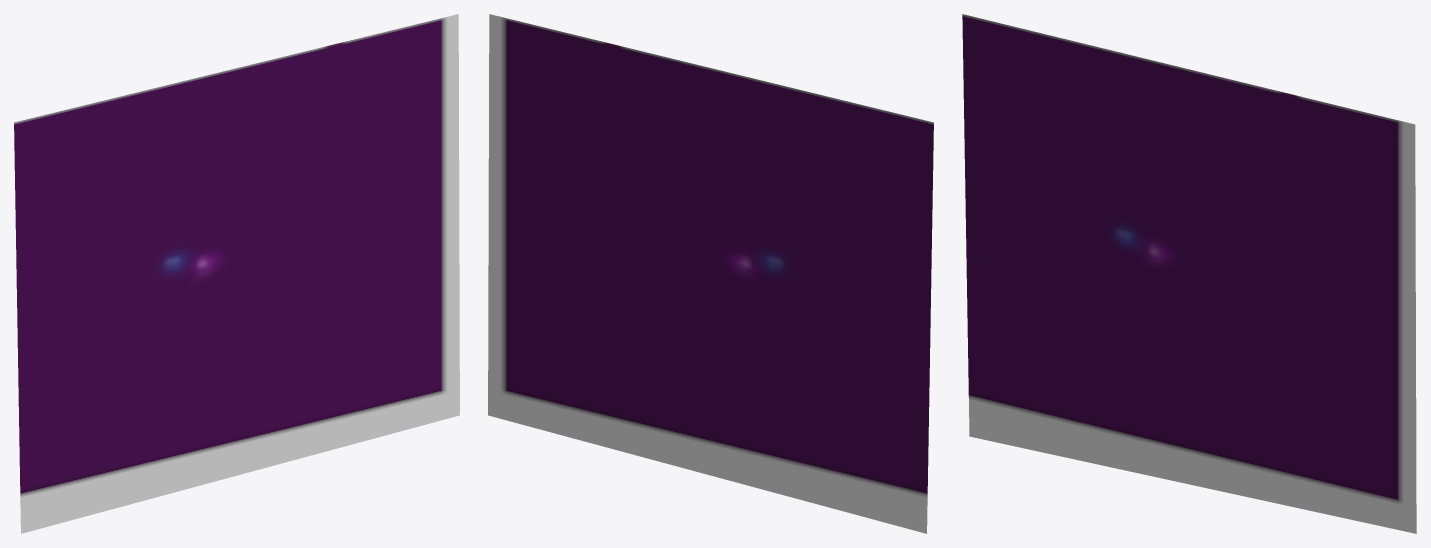
Rendered from Julebu_Deng11_fbx.FBX.
The picture shows the model from 3 angles, left to right: view 1: azimuth 30°, elevation 25°; view 2: azimuth 150°, elevation 25°; view 3: azimuth 330°, elevation 25°; orthographic projection.
Parts seen in each view (by area): view 1: Object073; view 2: Object073; view 3: Object073.
Part boxes in pixels (left/top/right/bottom): Object073: left=14, top=14, right=459, bottom=533; Object073: left=488, top=14, right=933, bottom=533; Object073: left=962, top=14, right=1416, bottom=533.
Bounding box in the file's own units: 1.82 × 1.61 × 2.75e-07.
